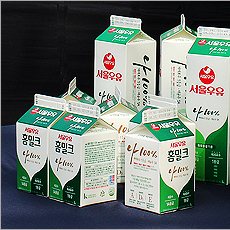milk: (16, 76, 196, 215), (91, 12, 229, 187)
